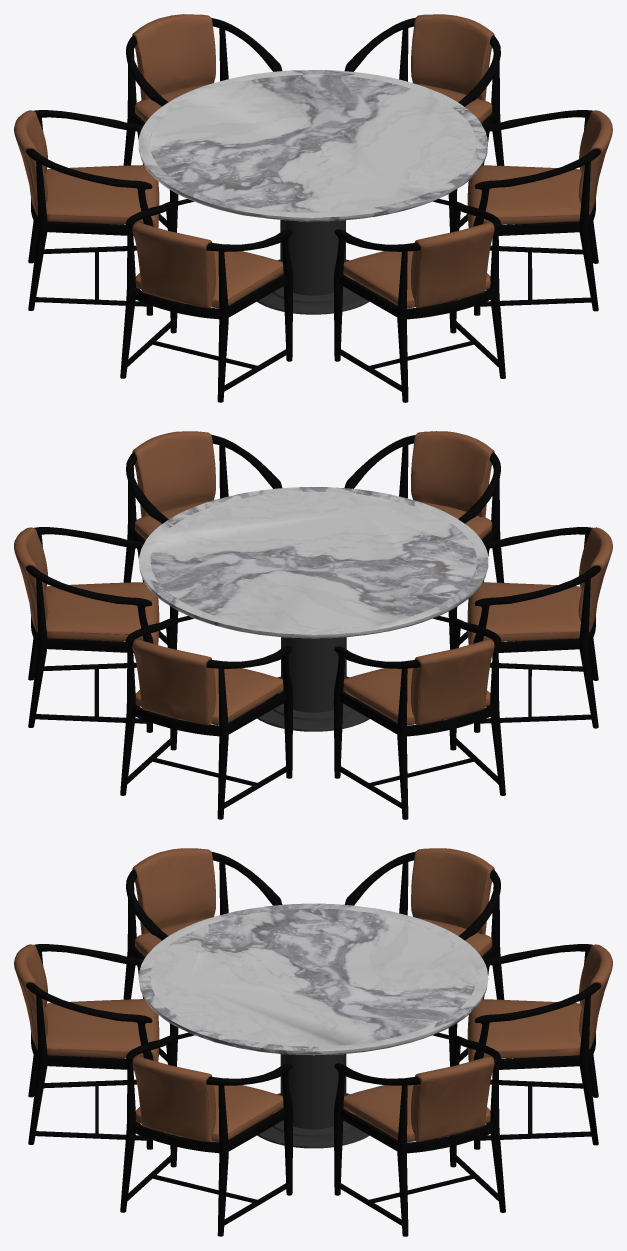
The picture shows the model from 3 angles, top to bottom: view 1: azimuth 30°, elevation 25°; view 2: azimuth 150°, elevation 25°; view 3: azimuth 270°, elevation 25°; orthographic projection.
Parts seen in each view (by area): view 1: SK_Solid_4, SK_Solid_2, SK_Solid_1, SK_Solid_5, SK_Solid_3; view 2: SK_Solid_4, SK_Solid_2, SK_Solid_1, SK_Solid_5, SK_Solid_3; view 3: SK_Solid_4, SK_Solid_2, SK_Solid_1, SK_Solid_5, SK_Solid_3.
Boxes of the visible parts, box(x1,y1,x2,y2) form: SK_Solid_4: box(138, 70, 487, 221); SK_Solid_2: box(14, 14, 612, 308); SK_Solid_1: box(26, 18, 600, 402); SK_Solid_5: box(280, 220, 345, 295); SK_Solid_3: box(255, 259, 371, 314); SK_Solid_4: box(139, 487, 488, 638); SK_Solid_2: box(14, 431, 612, 725); SK_Solid_1: box(26, 434, 600, 819); SK_Solid_5: box(281, 637, 346, 712); SK_Solid_3: box(257, 676, 369, 731); SK_Solid_4: box(138, 903, 488, 1055); SK_Solid_2: box(14, 848, 612, 1142); SK_Solid_1: box(26, 851, 600, 1236); SK_Solid_5: box(280, 1054, 346, 1129); SK_Solid_3: box(251, 1093, 369, 1148).
Size of the model in its own units: 2.48 by 0.8031 by 2.69.
Materials: 5 (5 with a texture image).
